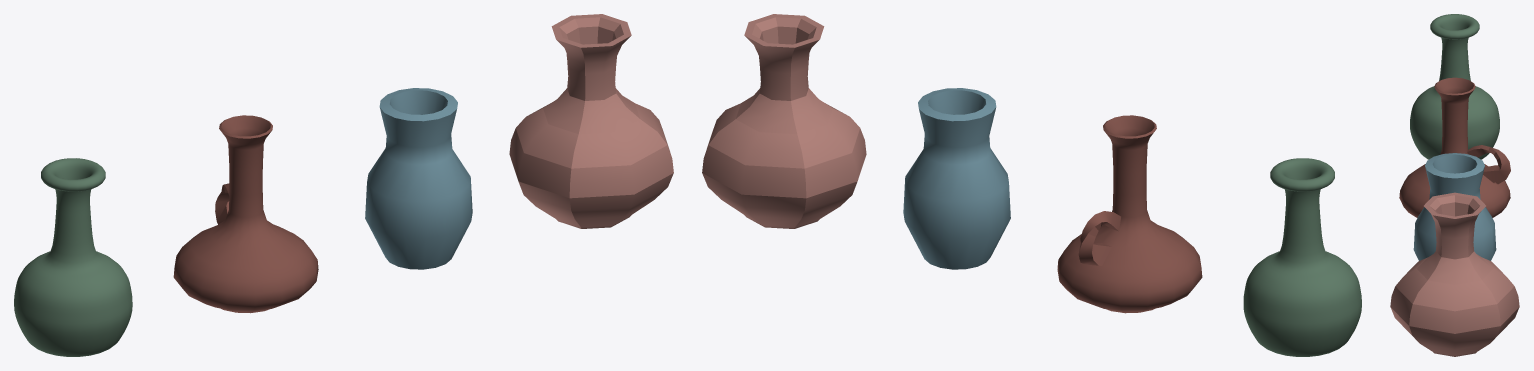
Rendered from vases 010.fbx.
The picture shows the model from 3 angles, left to right: view 1: azimuth 30°, elevation 25°; view 2: azimuth 150°, elevation 25°; view 3: azimuth 270°, elevation 25°; orthographic projection. The views are drawn at different scales.
Parts seen in each view (by area): view 1: vase_02, vase_04, vase_01, vase_03; view 2: vase_02, vase_04, vase_01, vase_03; view 3: vase_02, vase_03, vase_01, vase_04.
Boxes of the visible parts, x1,y1,x2,y2 form: vase_02: (509, 14, 673, 228); vase_04: (365, 88, 472, 269); vase_01: (173, 115, 318, 313); vase_03: (14, 158, 132, 356); vase_02: (702, 14, 866, 228); vase_04: (903, 88, 1010, 269); vase_01: (1057, 115, 1202, 313); vase_03: (1243, 158, 1361, 356); vase_02: (1390, 192, 1519, 356); vase_03: (1410, 14, 1499, 159); vase_01: (1399, 77, 1510, 217); vase_04: (1413, 153, 1496, 260).
Size of the model in its own units: 7.44 by 2.04 by 1.7.
